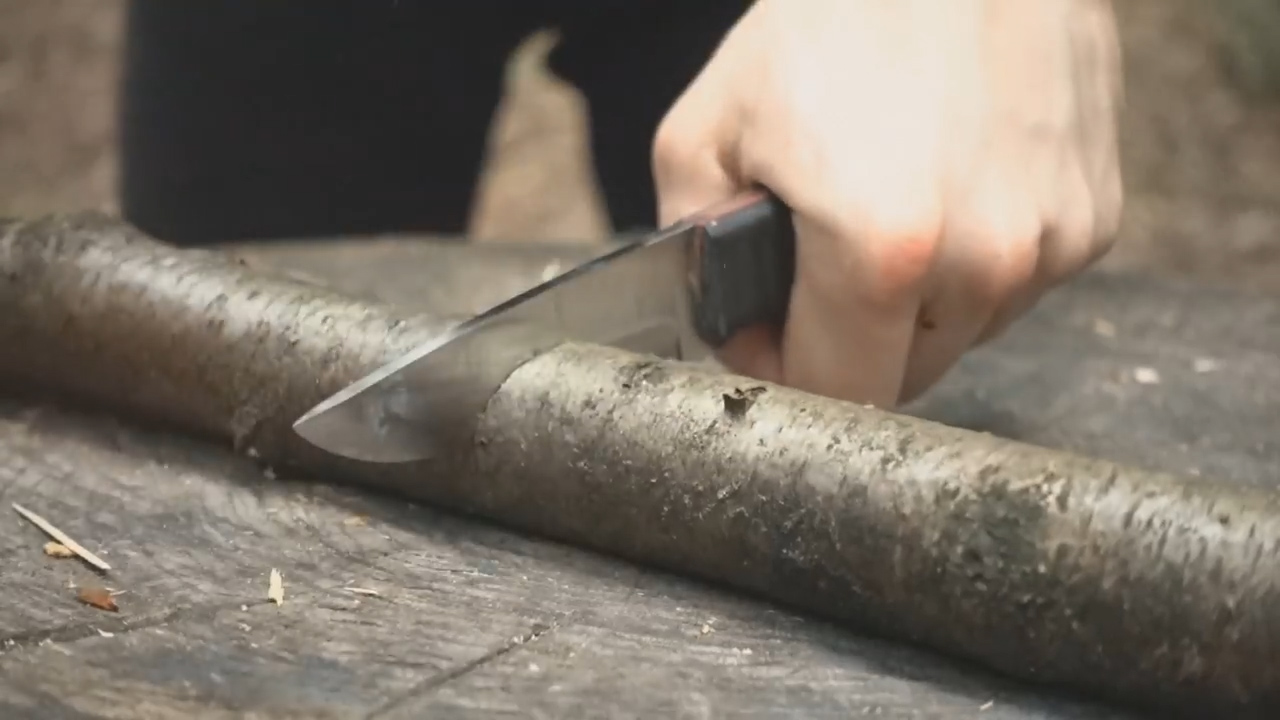knife: (277, 120, 1133, 480)
